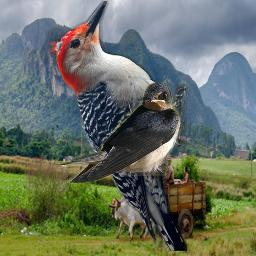Swallow: (55, 82, 181, 183)
Woodpecker: (49, 1, 187, 251)
